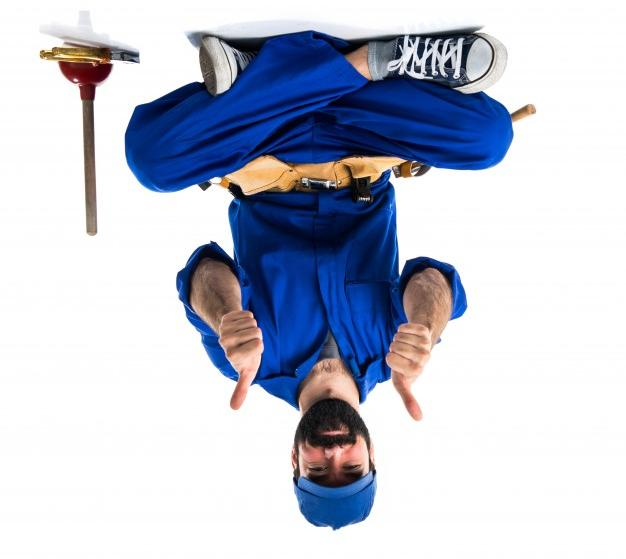thumbsdown: (385, 324, 432, 421), (218, 311, 264, 410)
